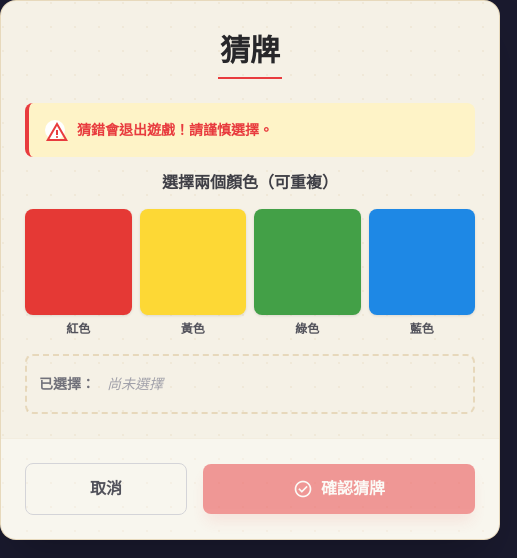
Test: GuessCard - 工作單 0021, 0129 › 顏色選擇器 › 選擇兩個後不應再選擇
Click the button with aria-label "選擇 紅色" at [78, 273], box left=25, top=209, right=132, bottom=338
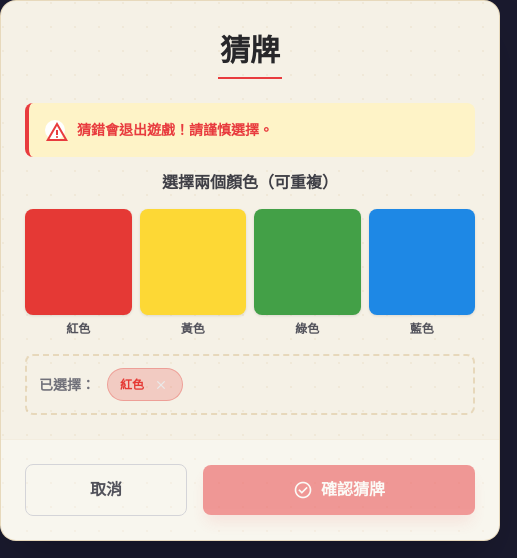
Click the button with aria-label "選擇 藍色" at [422, 273], box left=368, top=209, right=475, bottom=338
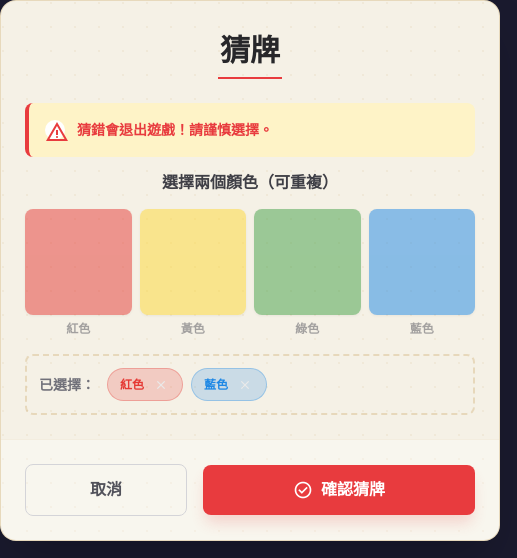
Expected: the button with aria-label "選擇 綠色" is disabled, left=254, top=209, right=360, bottom=338
